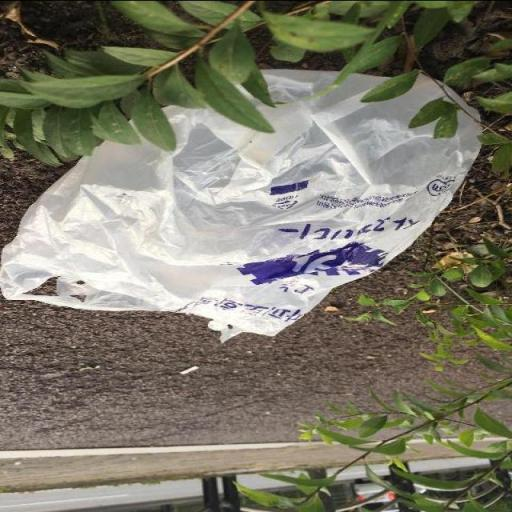plastic-bag: (0, 66, 485, 336)
